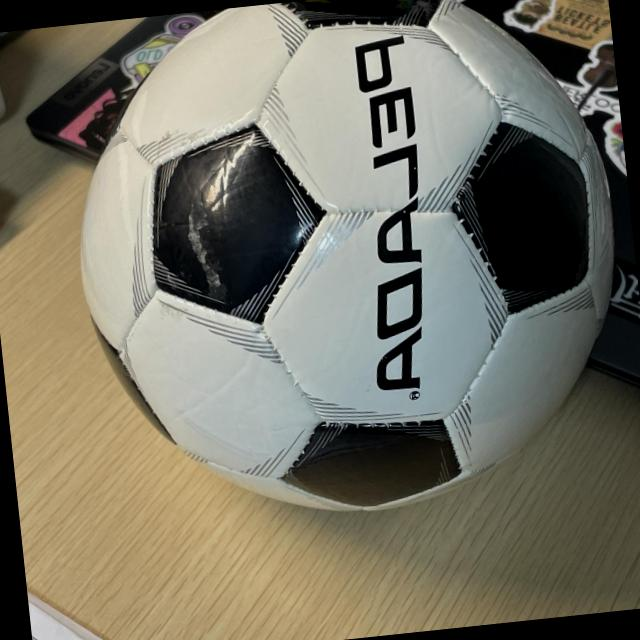Soccer Ball: (55, 0, 640, 541)
